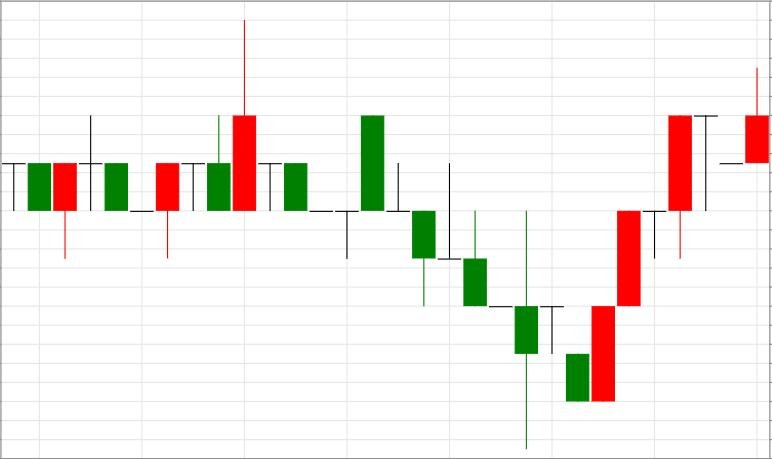bullish_engulfing_rise: (361, 116, 615, 449)
